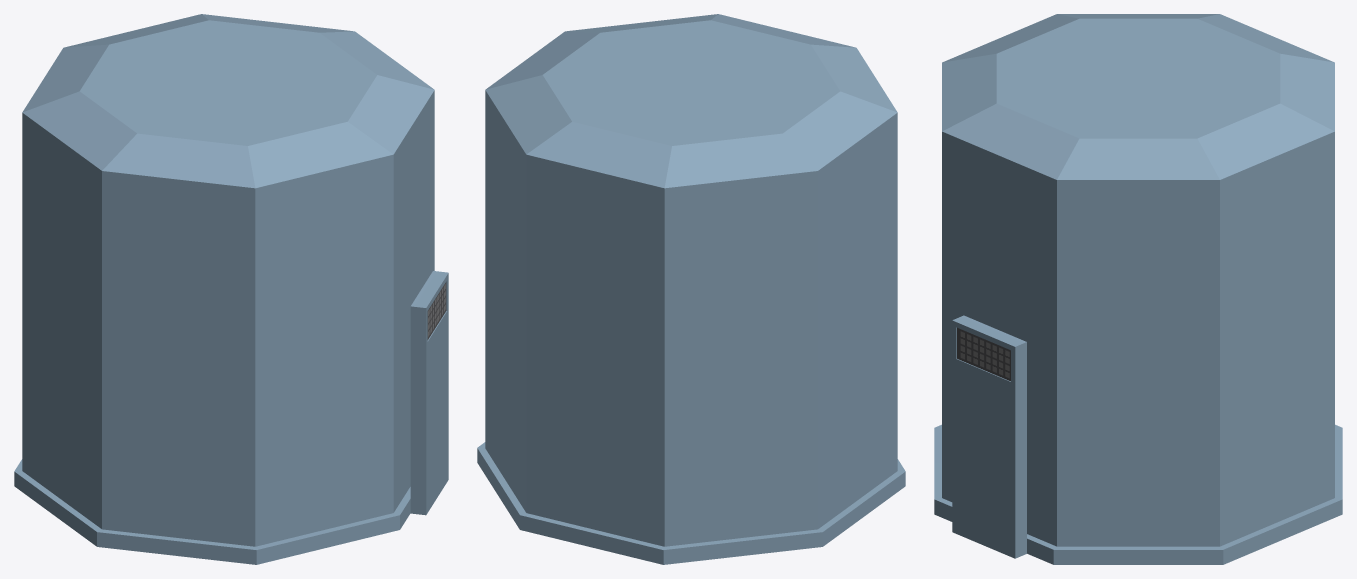
The model's file is Big_flask_3.fbx.
3 views of the same model, side by side, from view 1: azimuth 30°, elevation 25°; view 2: azimuth 150°, elevation 25°; view 3: azimuth 270°, elevation 25° (orthographic). The views are drawn at different scales.
Parts seen in each view (by area): view 1: Cube; view 2: Cube; view 3: Cube.
Boxes of the visible parts, x1,y1,x2,y2 form: Cube: [14, 14, 448, 564]; Cube: [477, 14, 905, 564]; Cube: [934, 14, 1342, 564].
Bounding box in the file's own units: 120 × 130 × 120.
